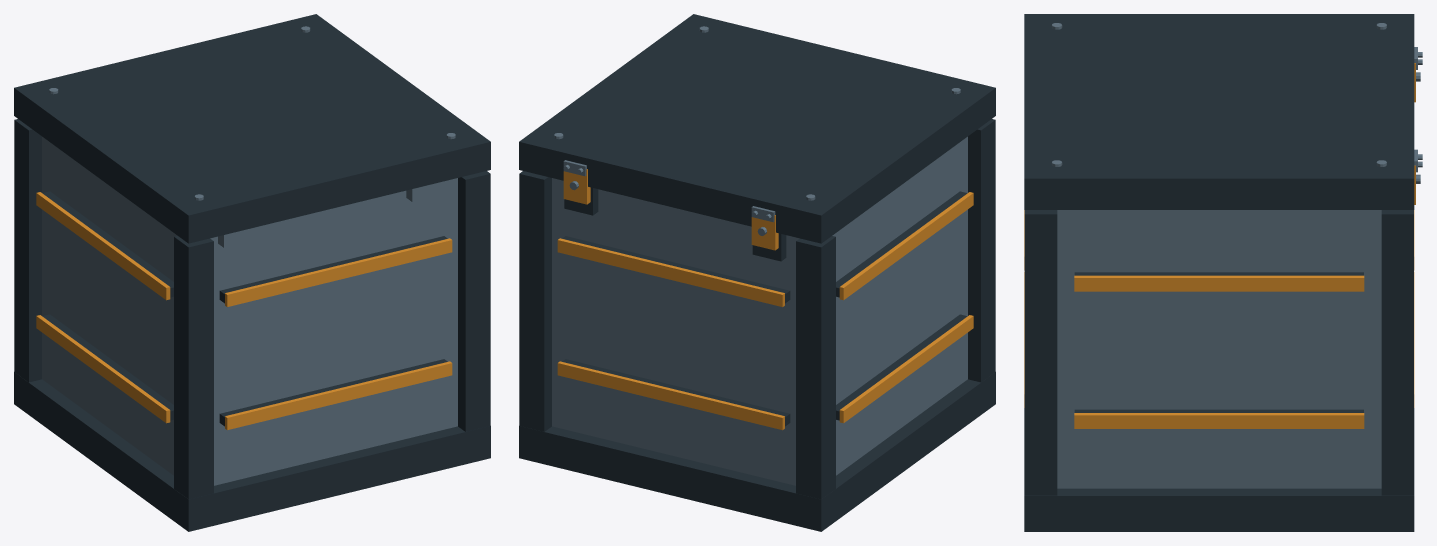
The picture shows the model from 3 angles, left to right: view 1: azimuth 30°, elevation 25°; view 2: azimuth 150°, elevation 25°; view 3: azimuth 270°, elevation 25°; orthographic projection. The views are drawn at different scales.
Parts seen in each view (by area): view 1: Crate_Shell, Upper_Lid, Lower_Rim, Corner_LF, Corner_RF, Corner_LB, Front_Trim_0.444_0.28, Front_Trim_0.444_0.63, Side_Trim_-0.444_0.28, Side_Trim_-0.444_0.63, TrimBacker_L_0.28, TrimBacker_L_0.63 (+4 smaller); view 2: Crate_Shell, Upper_Lid, Lower_Rim, Corner_LB, Corner_RB, Corner_LF, Front_Trim_-0.444_0.28, Front_Trim_-0.444_0.63, Side_Trim_-0.444_0.28, Side_Trim_-0.444_0.63, TrimBacker_L_0.28, TrimBacker_L_0.63 (+4 smaller); view 3: Crate_Shell, Upper_Lid, Lower_Rim, Corner_RF, Corner_RB, Side_Trim_0.444_0.63, Side_Trim_0.444_0.28, TrimBacker_R_0.63, TrimBacker_R_0.28.
Boxes of the visible parts, x1=… form: Crate_Shell: x1=42, y1=136, x2=457, y2=485; Upper_Lid: x1=14, y1=14, x2=490, y2=243; Lower_Rim: x1=14, y1=372, x2=490, y2=531; Corner_LF: x1=174, y1=236, x2=213, y2=499; Corner_RF: x1=458, y1=171, x2=490, y2=431; Corner_LB: x1=14, y1=119, x2=41, y2=382; Front_Trim_0.444_0.28: x1=225, y1=361, x2=452, y2=430; Front_Trim_0.444_0.63: x1=225, y1=238, x2=452, y2=306; Side_Trim_-0.444_0.28: x1=36, y1=315, x2=170, y2=423; Side_Trim_-0.444_0.63: x1=36, y1=192, x2=170, y2=300; TrimBacker_L_0.28: x1=42, y1=314, x2=173, y2=420; TrimBacker_L_0.63: x1=42, y1=191, x2=173, y2=297; Crate_Shell: x1=552, y1=136, x2=967, y2=485; Upper_Lid: x1=519, y1=14, x2=995, y2=243; Lower_Rim: x1=519, y1=372, x2=995, y2=531; Corner_LB: x1=796, y1=236, x2=835, y2=499; Corner_RB: x1=519, y1=171, x2=551, y2=431; Corner_LF: x1=968, y1=119, x2=995, y2=382; Front_Trim_-0.444_0.28: x1=557, y1=361, x2=784, y2=430; Front_Trim_-0.444_0.63: x1=557, y1=238, x2=784, y2=306; Side_Trim_-0.444_0.28: x1=839, y1=315, x2=973, y2=423; Side_Trim_-0.444_0.63: x1=839, y1=192, x2=973, y2=300; TrimBacker_L_0.28: x1=836, y1=314, x2=967, y2=420; TrimBacker_L_0.63: x1=836, y1=191, x2=967, y2=297; Crate_Shell: x1=1057, y1=210, x2=1381, y2=488; Upper_Lid: x1=1024, y1=14, x2=1414, y2=209; Lower_Rim: x1=1024, y1=408, x2=1414, y2=531; Corner_RF: x1=1024, y1=210, x2=1057, y2=495; Corner_RB: x1=1381, y1=210, x2=1413, y2=495; Side_Trim_0.444_0.63: x1=1074, y1=275, x2=1364, y2=291; Side_Trim_0.444_0.28: x1=1074, y1=413, x2=1364, y2=428; TrimBacker_R_0.63: x1=1074, y1=272, x2=1363, y2=275; TrimBacker_R_0.28: x1=1074, y1=409, x2=1363, y2=412.
Size of the model in its own units: 0.9 by 0.907 by 0.919.
